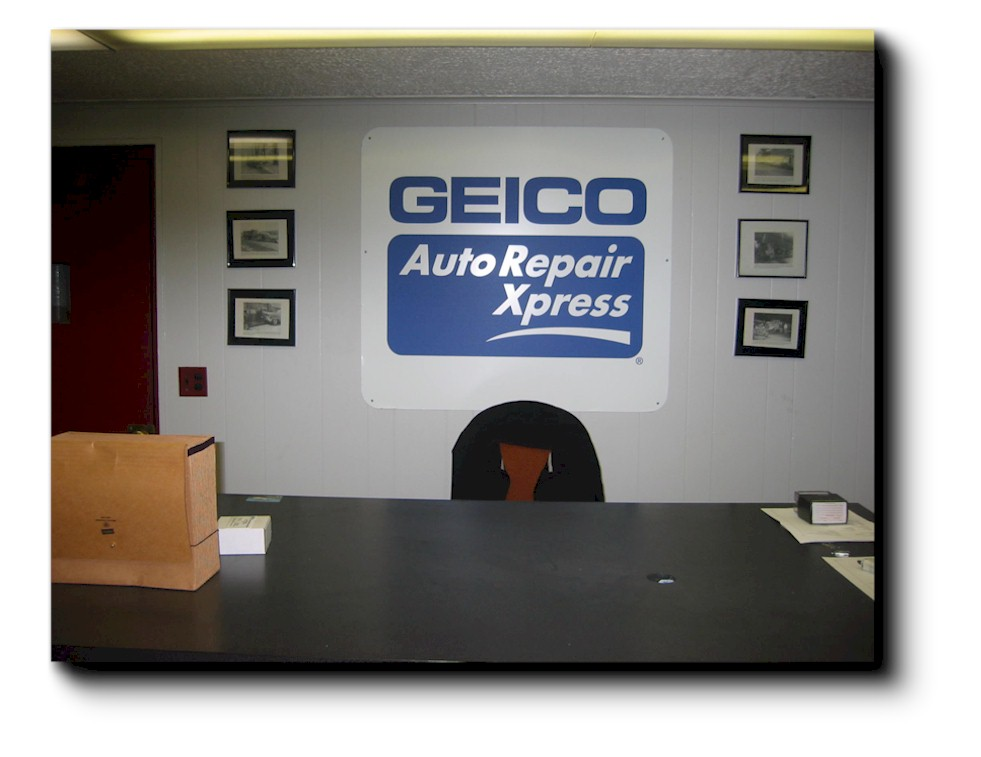Geico: (383, 170, 656, 235)
